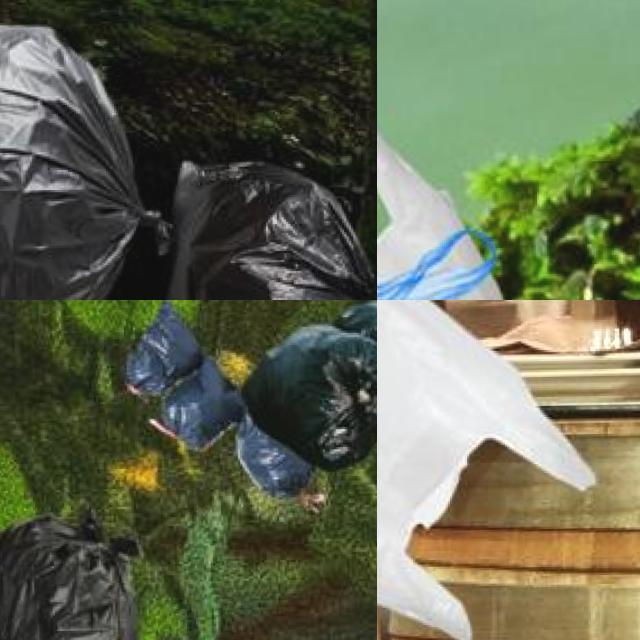waste: (377, 300, 586, 640), (0, 17, 155, 300), (163, 154, 377, 300), (377, 124, 552, 300), (377, 64, 504, 300), (244, 318, 377, 459), (0, 512, 143, 640), (158, 364, 248, 452), (119, 300, 205, 386), (337, 300, 377, 396)
